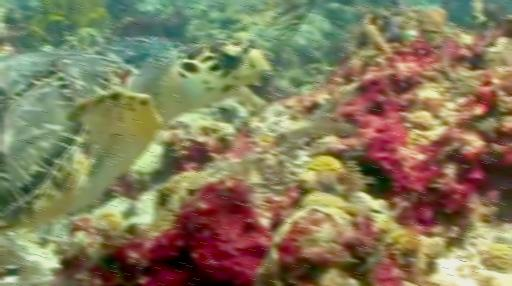Fish: (0, 40, 270, 218)
